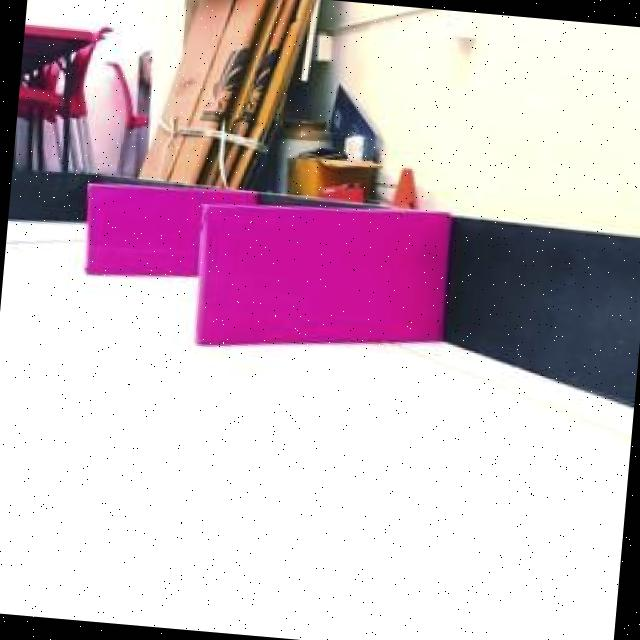xparking: (193, 189, 451, 364), (78, 179, 200, 285)
